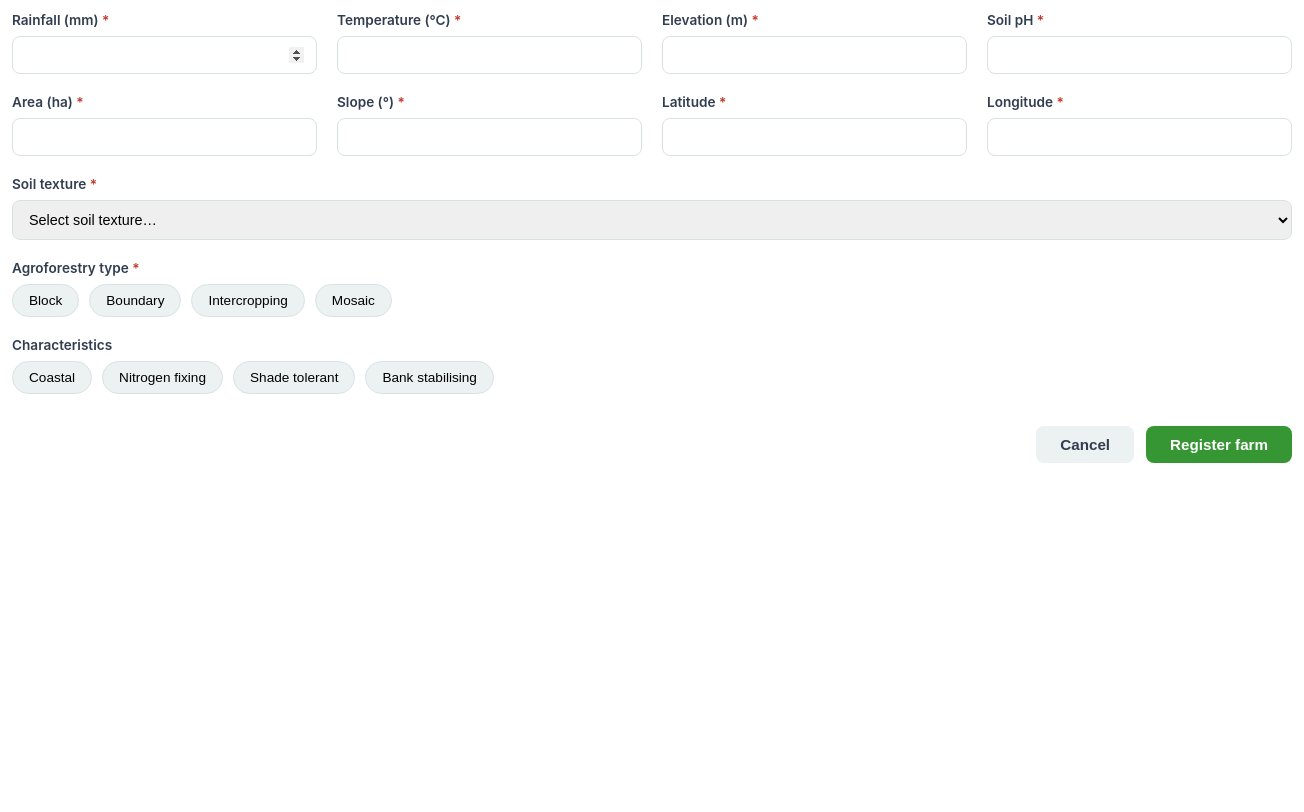
Test: RegisterFarmForm › updates a field value on change and clears the matching error
The image size is (1304, 812).
Click the button "Register farm" at {"x": 1219, "y": 444}, box [1146,426,1292,463]
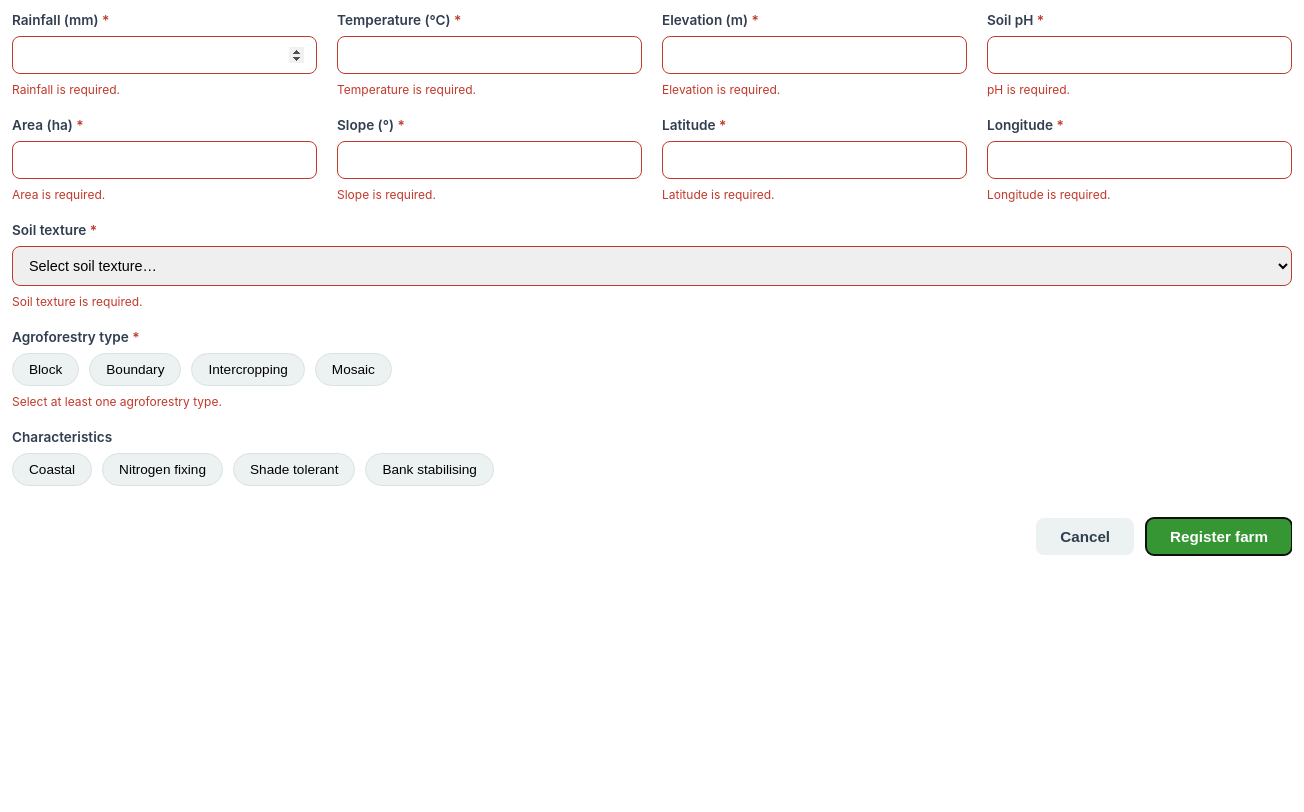
Now the text "Rainfall is required." is shown, box [12,82,120,97]
Type "800" into the number field labelled "Rainfall (mm) *" at {"x": 164, "y": 55}, box [12,36,317,74]
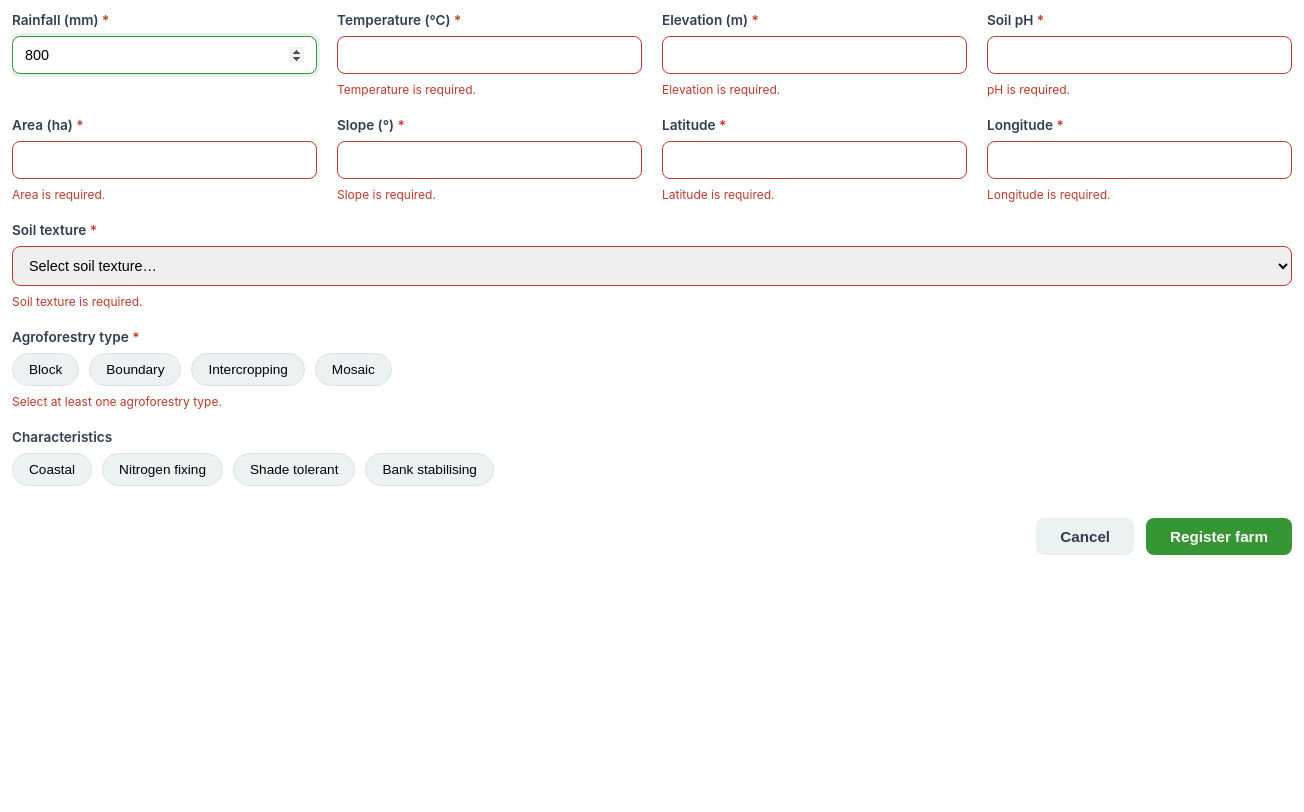
Now the text "Rainfall is required" is gone
